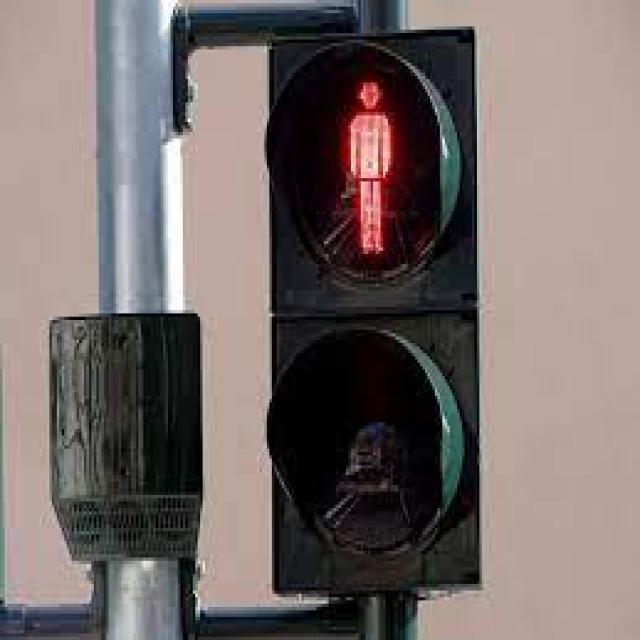red_light: (309, 72, 427, 268)
